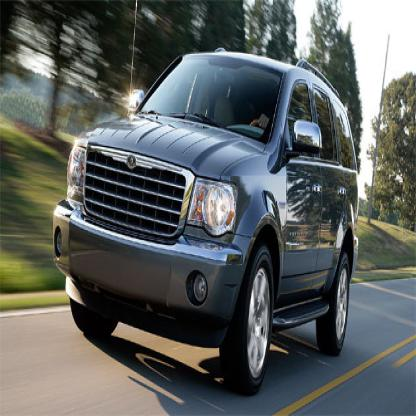Vehicle: (53, 48, 360, 396)
